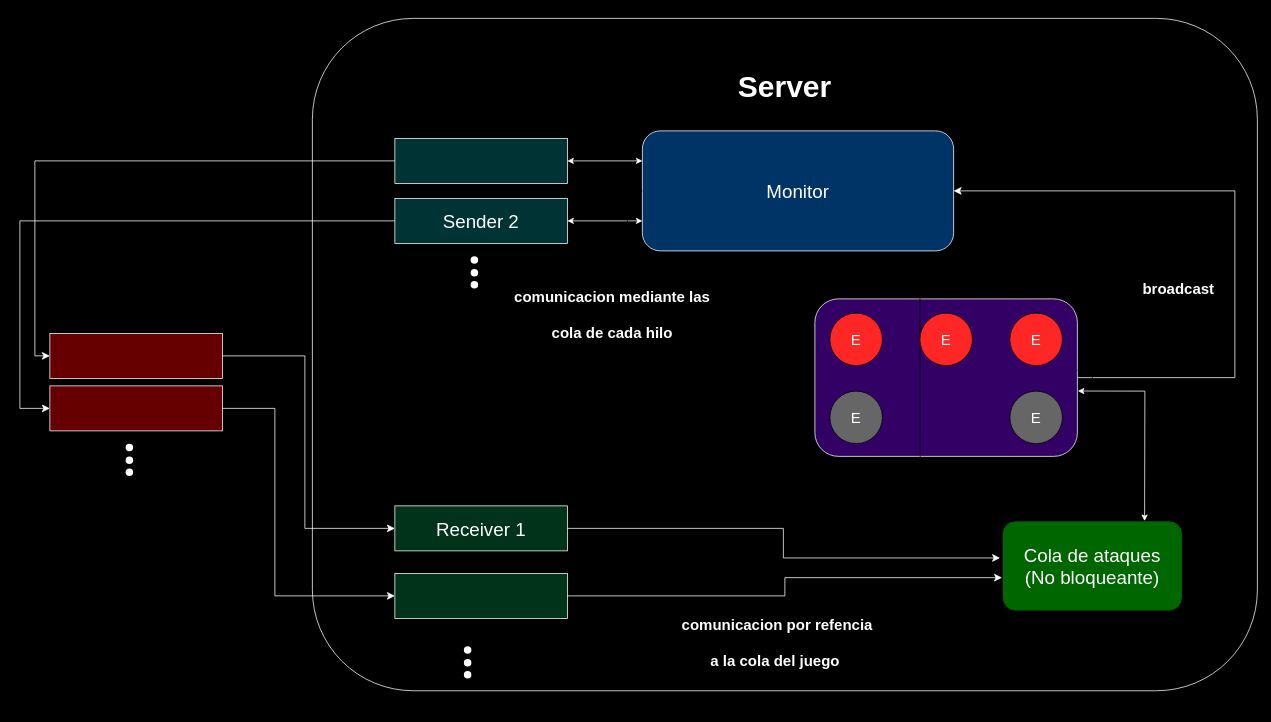
Some shapes in this 1271 by 722 pixel diagram are drawn without their labels. Here are the shapes that lost their labels. From the top down, the box of each, then its label:
(394, 138, 567, 183): Sender 1
(49, 333, 222, 378): Cliente 1
(814, 298, 1077, 456): Game
(49, 385, 222, 431): Cliente 2
(394, 573, 567, 618): Receiver 2
